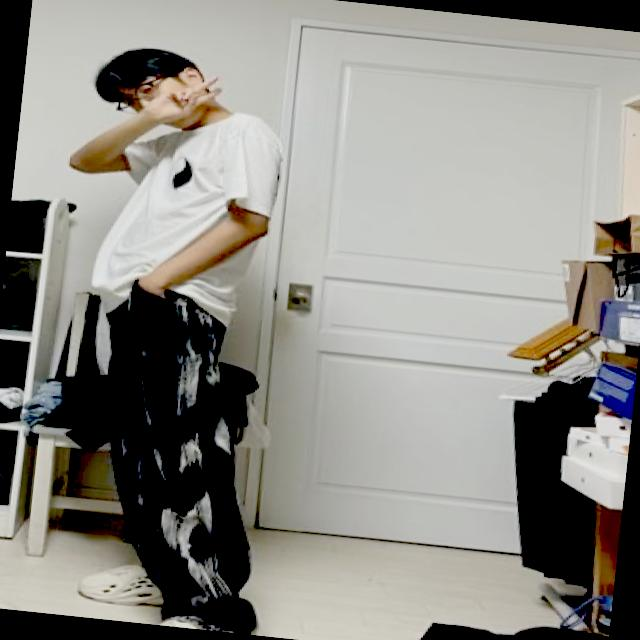denimpants: (68, 282, 295, 636)
shortsleeve: (80, 96, 284, 335)
